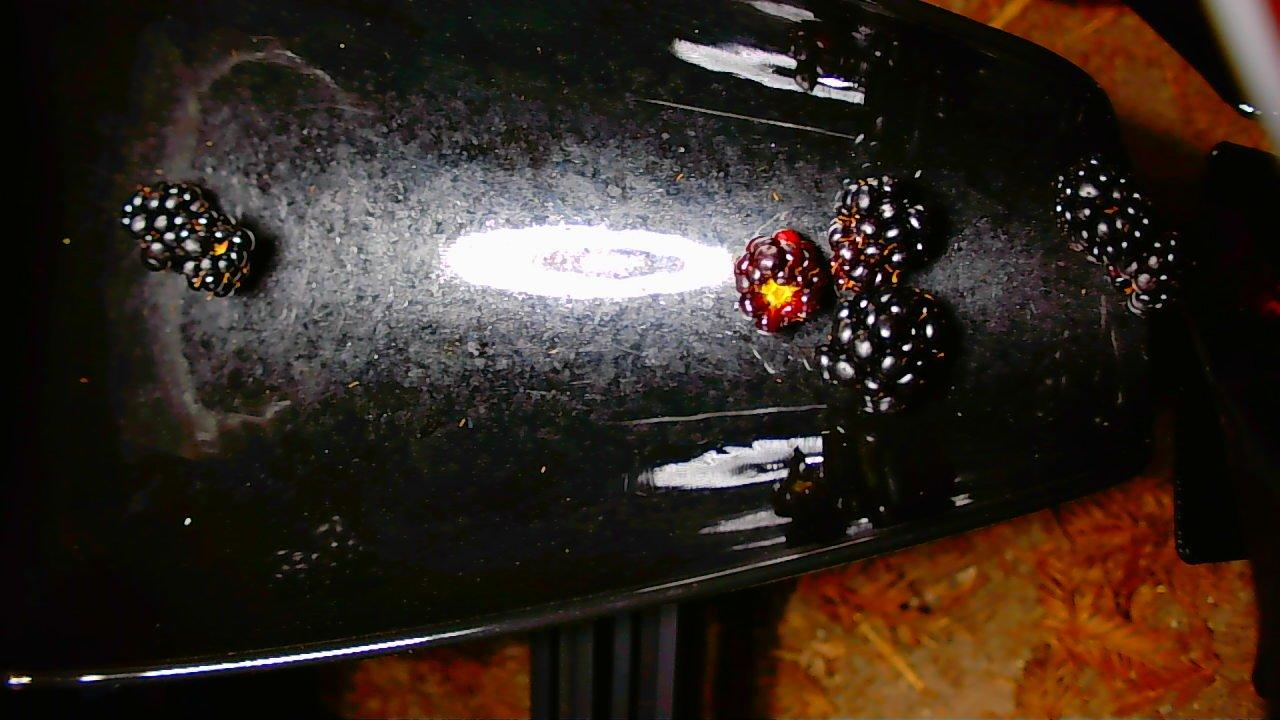berry: (817, 286, 951, 413), (828, 176, 930, 292), (1053, 157, 1154, 265), (735, 229, 829, 332), (121, 183, 221, 270), (1107, 224, 1184, 315), (178, 218, 255, 296)
